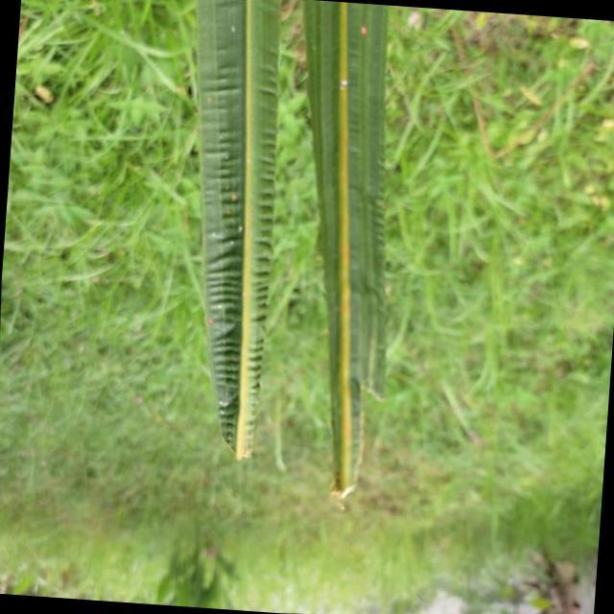Boron: (299, 0, 392, 512), (189, 3, 283, 488)
